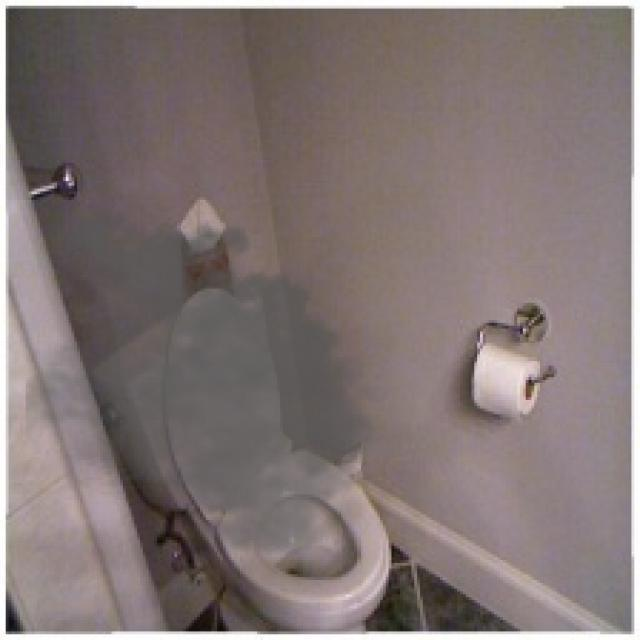Smoke: (26, 200, 394, 563)
